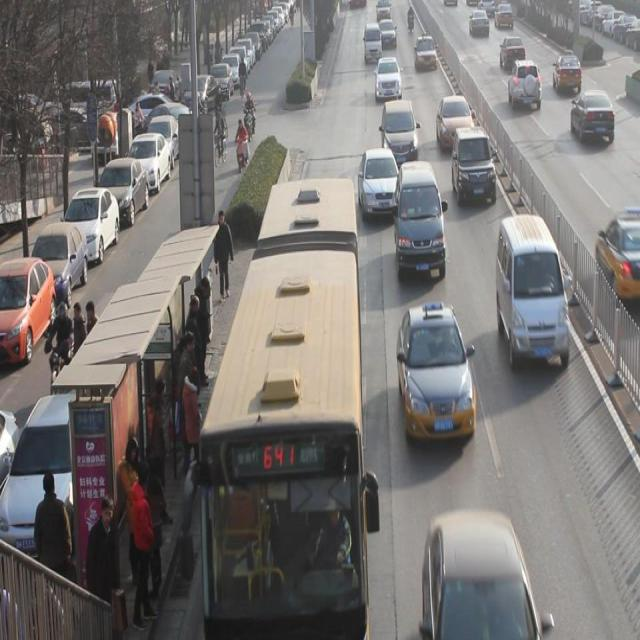car: (422, 508, 545, 640), (396, 301, 476, 441), (595, 209, 640, 303), (452, 125, 497, 208), (358, 147, 401, 222), (570, 89, 615, 142), (381, 101, 418, 161), (437, 96, 474, 154), (507, 59, 543, 109), (553, 53, 582, 93), (376, 55, 402, 99), (414, 35, 438, 70), (500, 36, 526, 68), (469, 9, 490, 37), (378, 17, 397, 47), (494, 1, 514, 29)
truck: (497, 216, 570, 367), (394, 162, 446, 280), (363, 22, 382, 63)
van: (202, 182, 365, 630)
